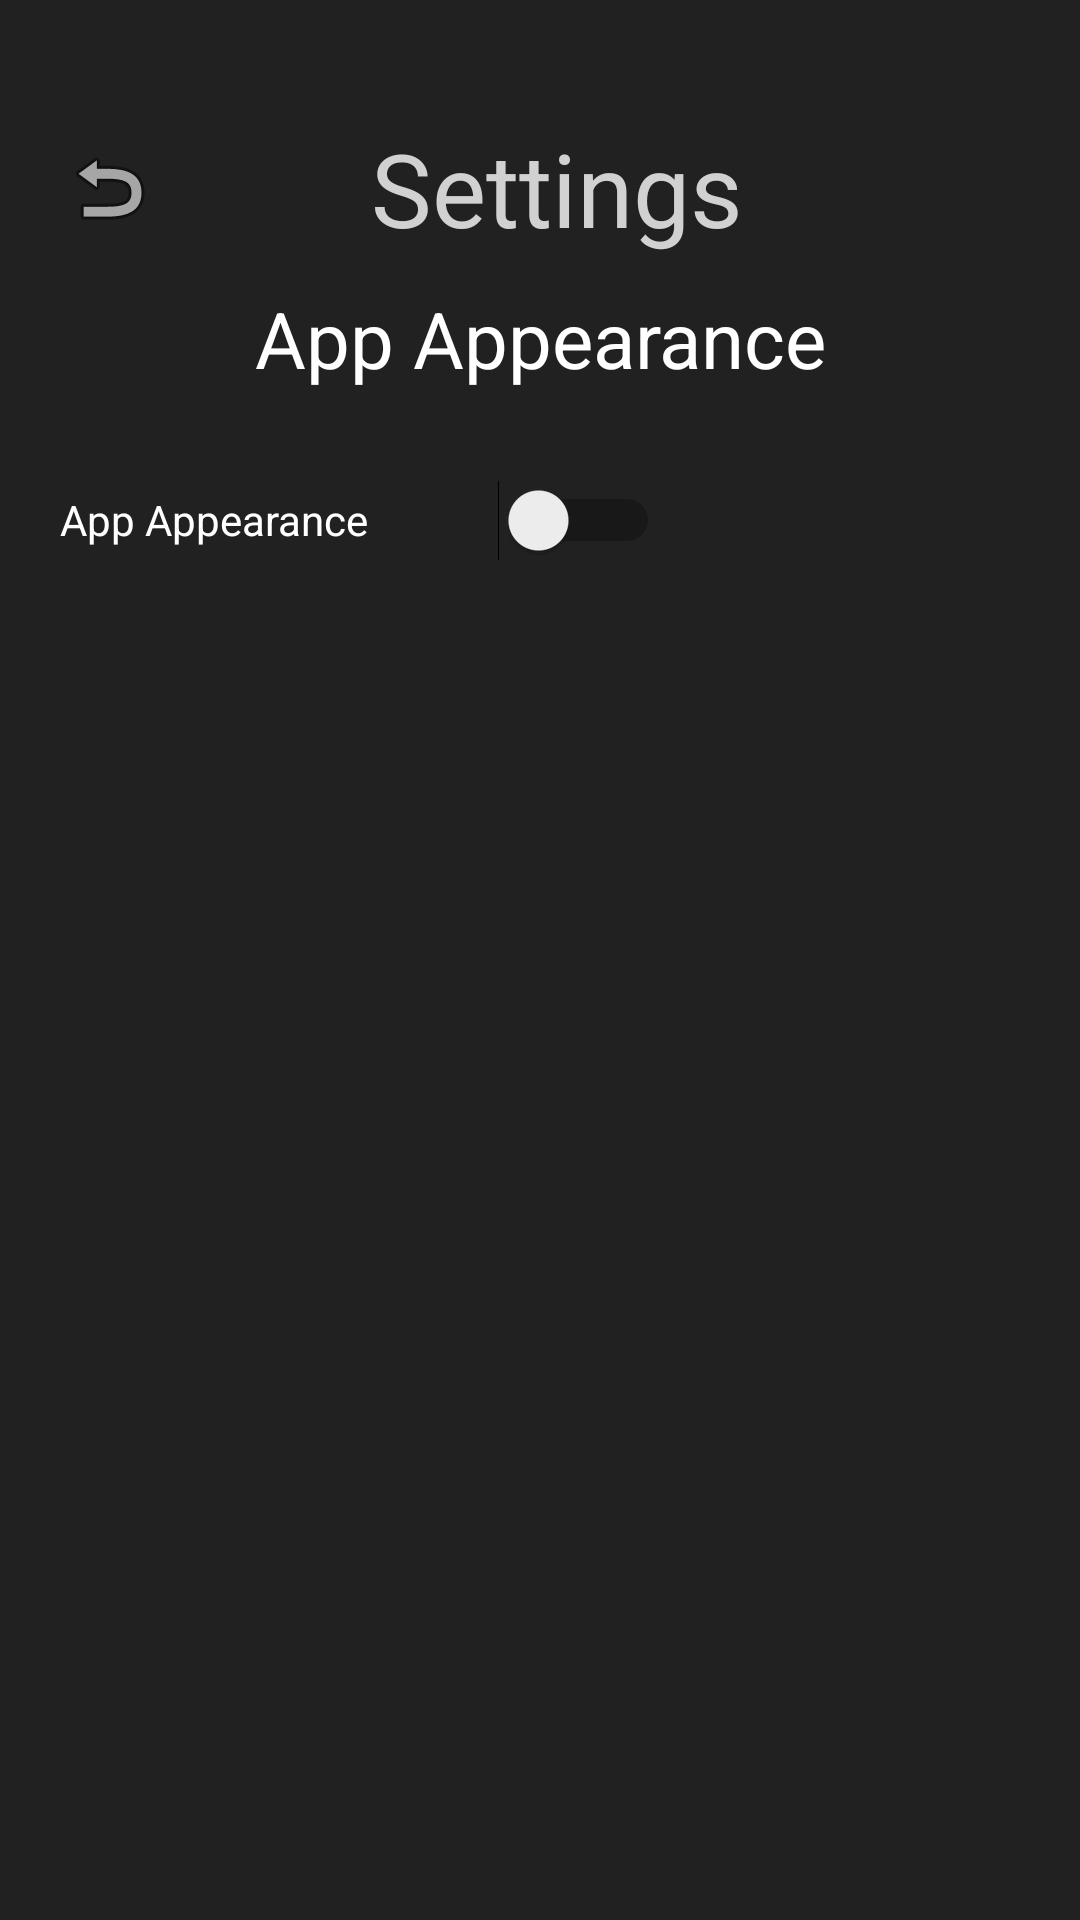

Named icons in this screenshot (1080w x 1920h) and their bounding boxes, Rect(x1, y1, x2, y2):
revert: Rect(79, 160, 142, 217)
